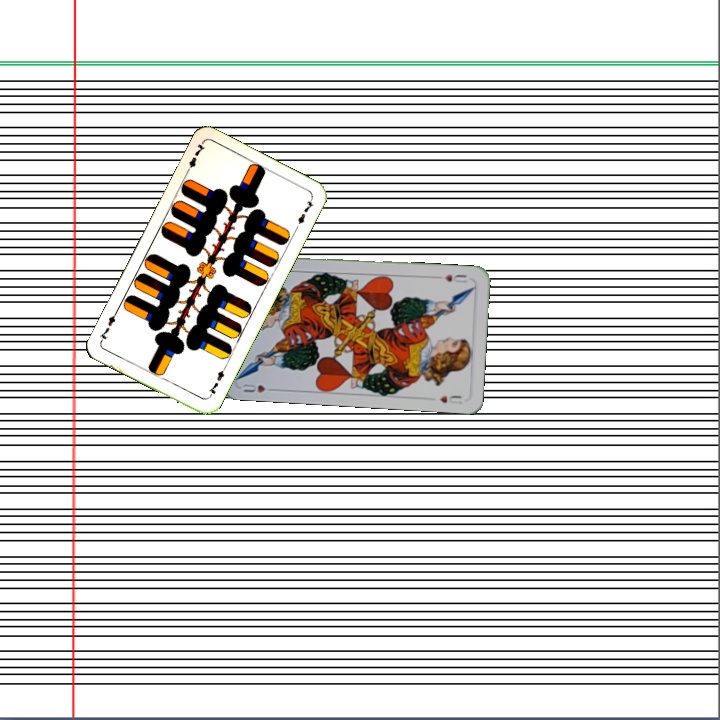E7: (182, 139, 208, 177), (204, 362, 228, 400)
HU: (238, 378, 278, 395), (440, 270, 469, 285)
